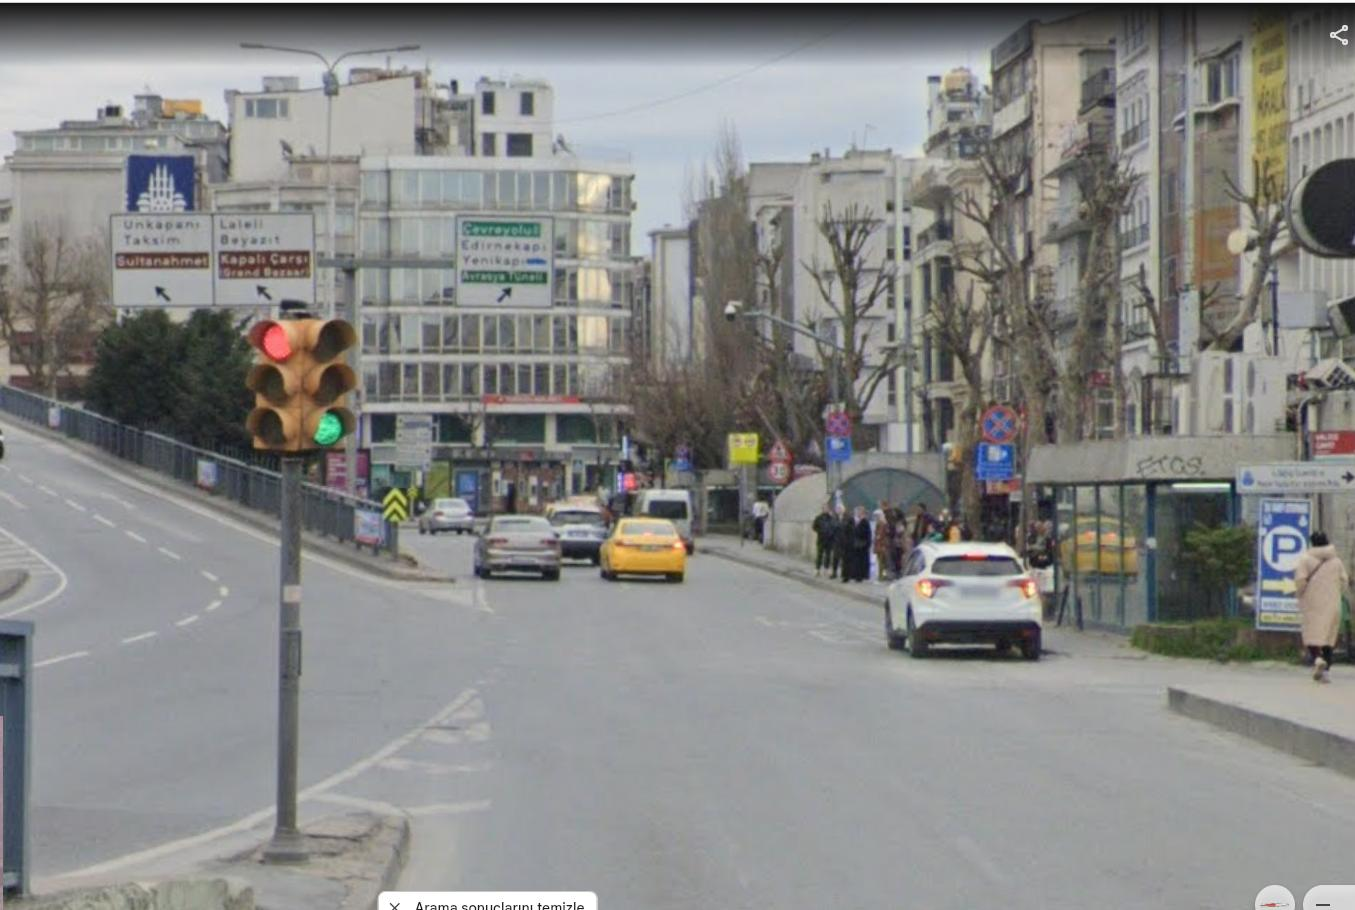greenlight: (309, 319, 354, 448)
redlight: (250, 322, 308, 448)
